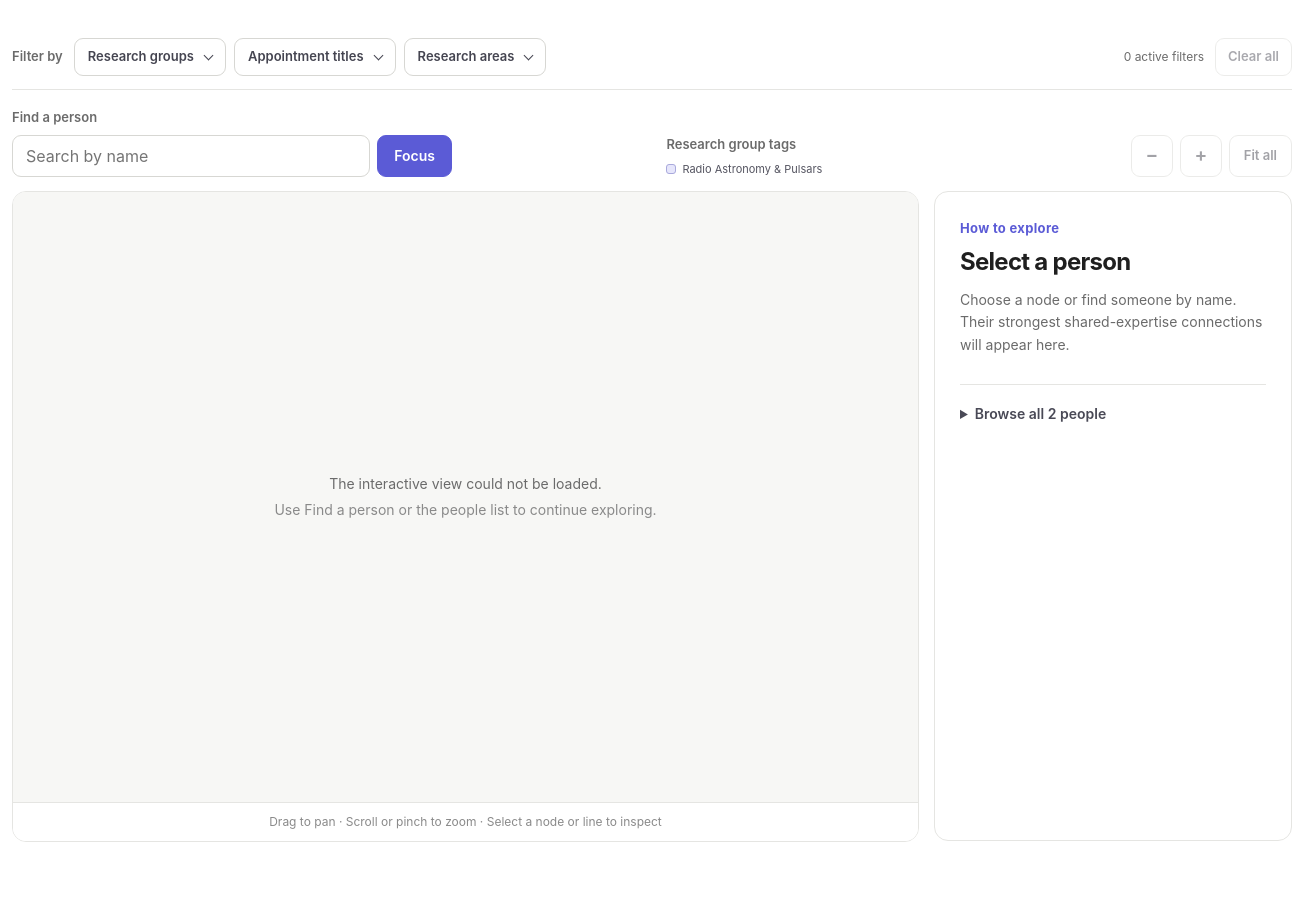
Test: PeopleNetwork › keeps HTML navigation available when the renderer fails
Expected: the message shows "The interactive view could not be loaded.", [329,475,602,492]
In the search field labelled "Find a person": [191, 156] box [12,134,370,176], type "Daniel Brooks"
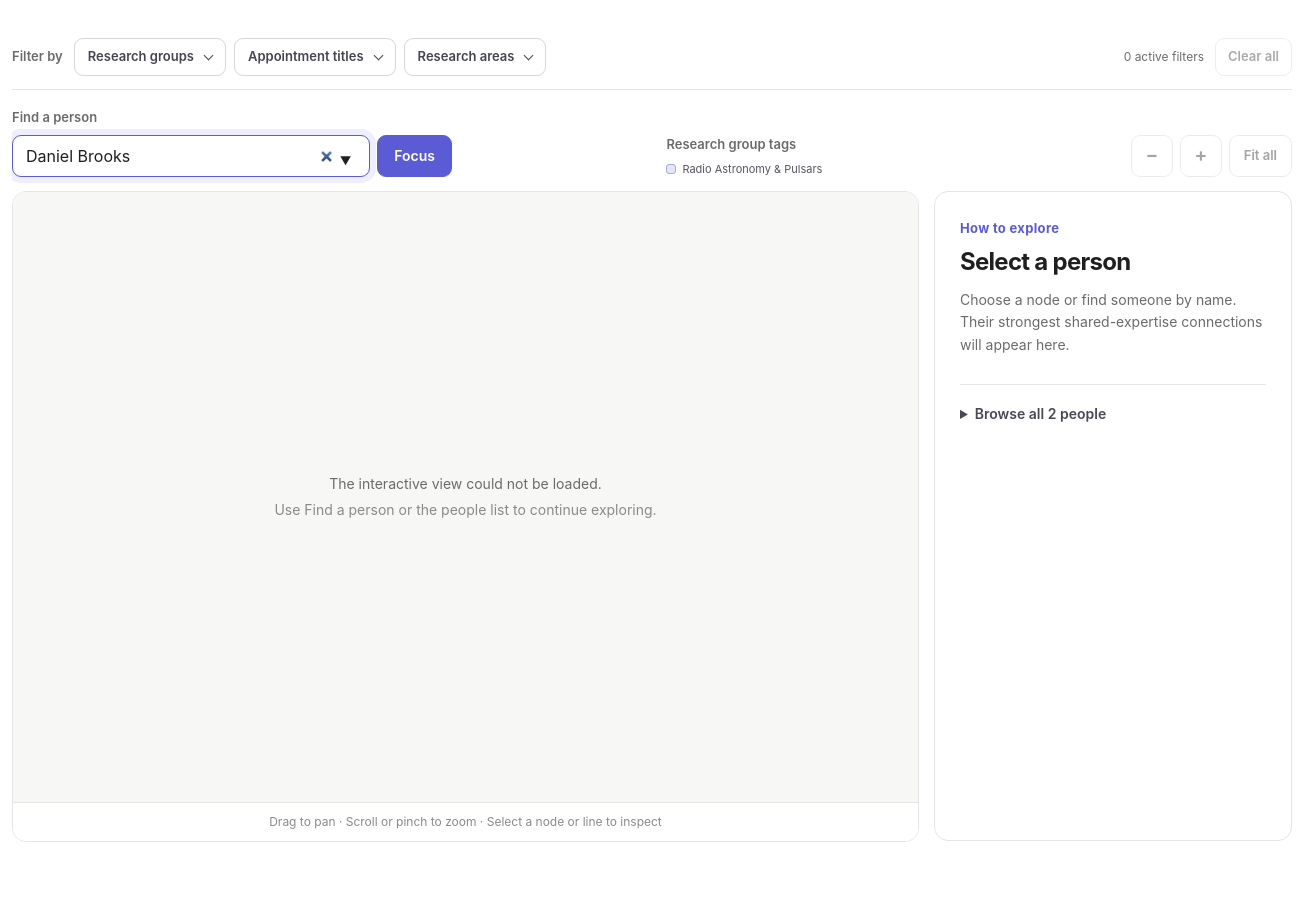
Click the button "Focus": [415, 156] box [377,134,452,176]
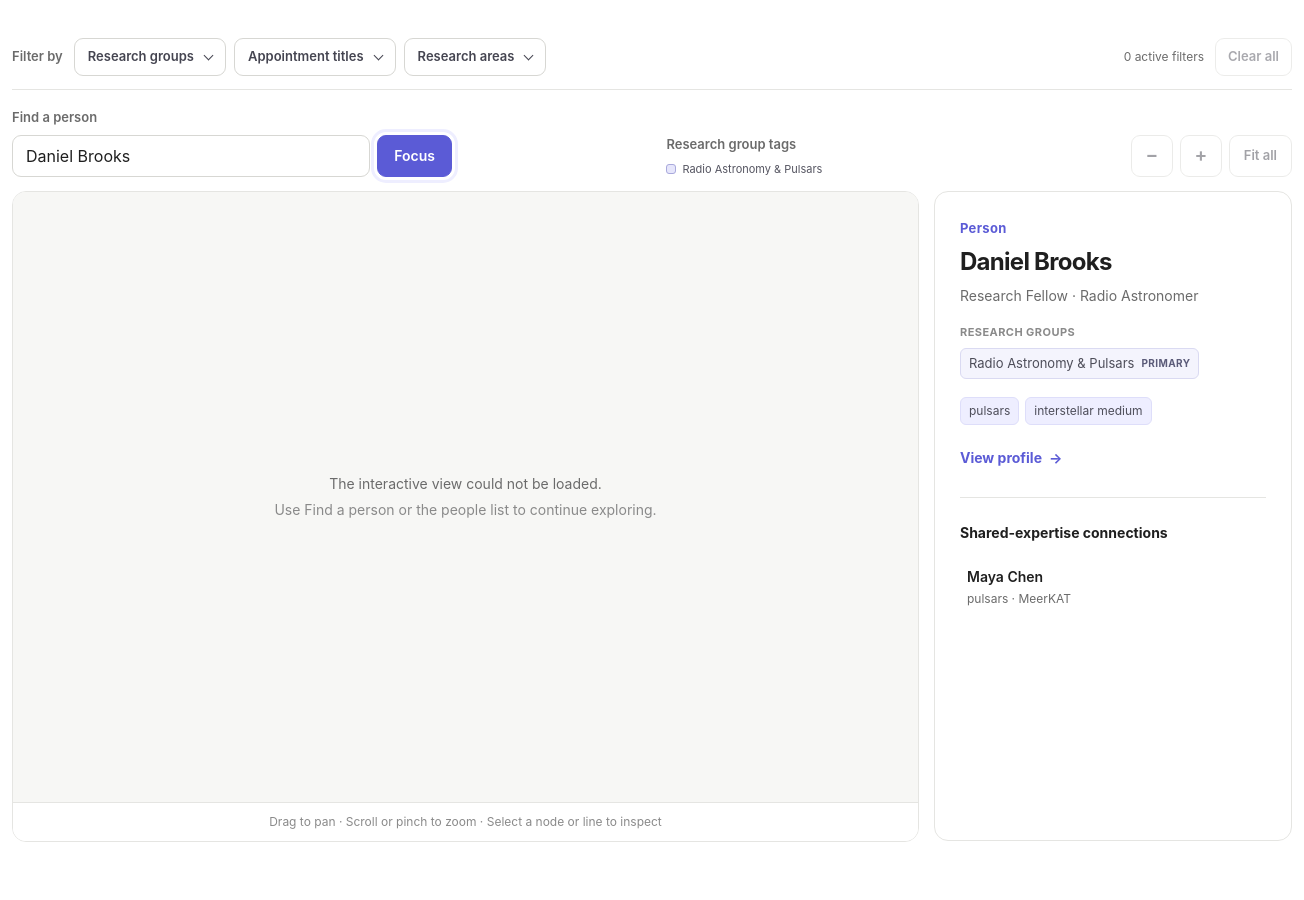
Now the heading "Daniel Brooks" is shown, box [960,247,1112,276]
